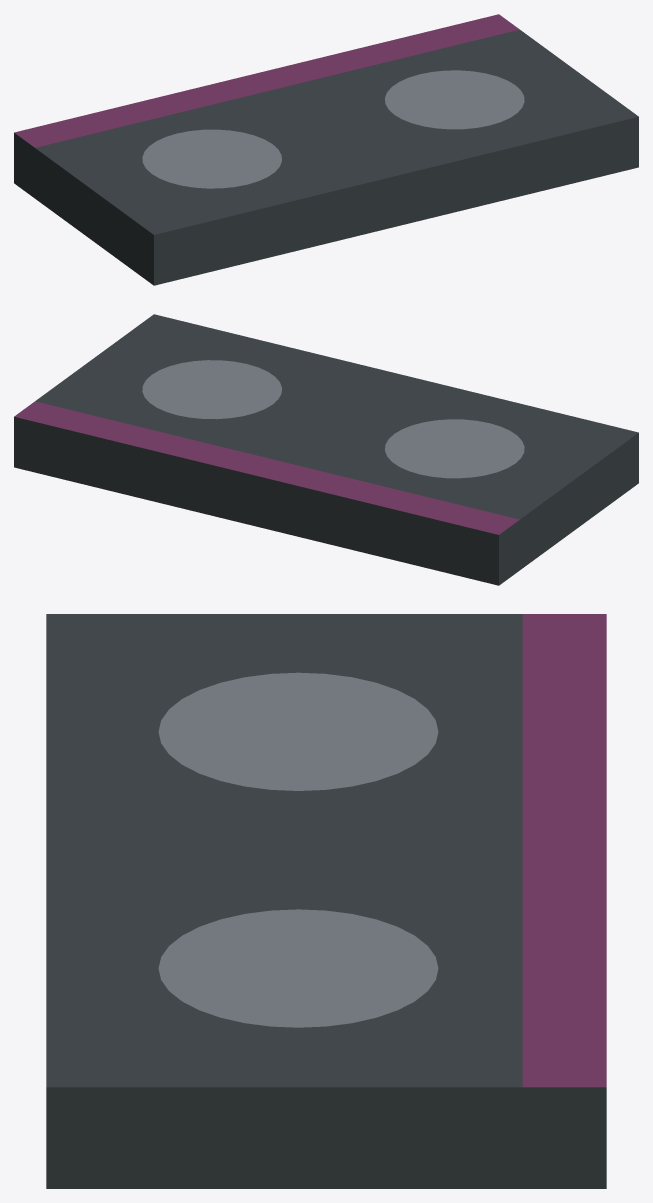
File: Security-cassette.glb
The picture shows the model from 3 angles, top to bottom: view 1: azimuth 30°, elevation 25°; view 2: azimuth 150°, elevation 25°; view 3: azimuth 270°, elevation 25°; orthographic projection. The views are drawn at different scales.
Parts seen in each view (by area): view 1: Cube, Circle, Cube.001; view 2: Cube, Circle, Cube.001; view 3: Cube, Circle, Cube.001.
Part boxes in pixels (<box>): Cube: <box>14,29,638,285</box>; Circle: <box>142,70,524,188</box>; Cube.001: <box>14,14,519,147</box>; Cube: <box>14,314,638,585</box>; Circle: <box>142,360,524,478</box>; Cube.001: <box>14,401,519,534</box>; Cube: <box>46,614,606,1188</box>; Circle: <box>158,672,438,1027</box>; Cube.001: <box>522,614,606,1087</box>.
Bounding box in the file's own units: 2 × 0.201 × 1.
